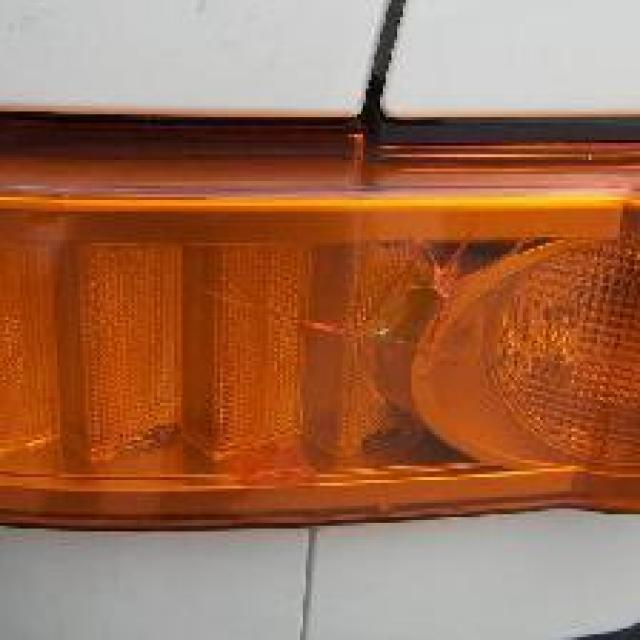damaged: (203, 228, 520, 380)
